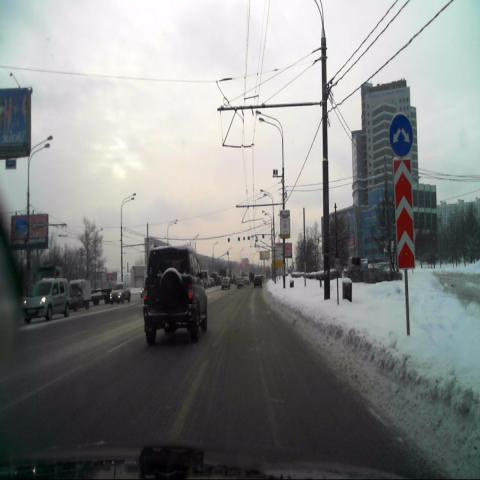4_2_3: (390, 114, 412, 154)
